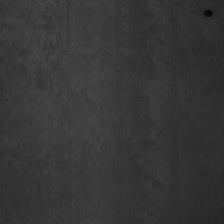punching_hole: (1, 6, 200, 216), (202, 8, 214, 19)
